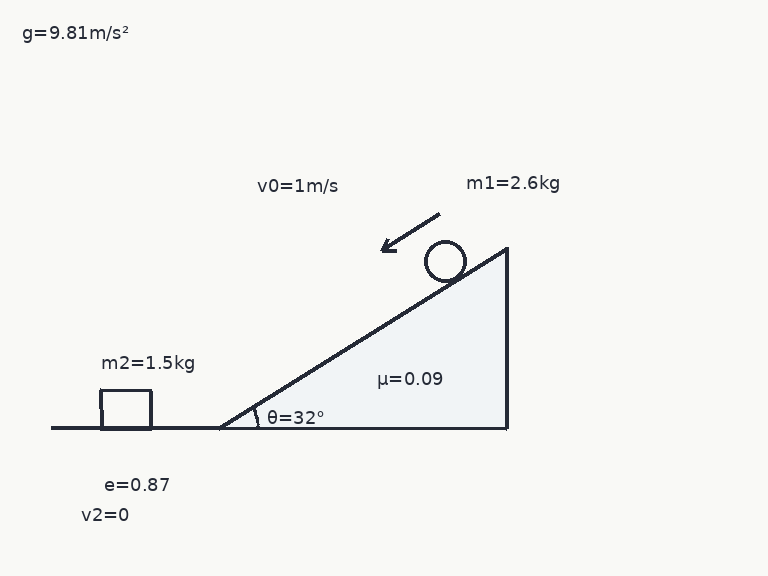ball: (422, 238, 468, 284)
block: (98, 389, 154, 430)
ramp: (216, 246, 507, 430)
